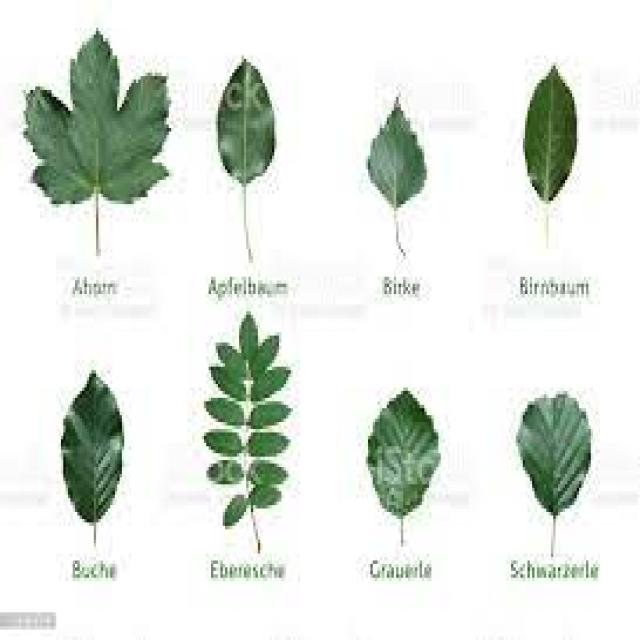leaves: (25, 31, 169, 254), (516, 393, 591, 556), (218, 59, 275, 263), (368, 389, 440, 545), (61, 373, 124, 543), (524, 66, 576, 202), (368, 98, 426, 209), (250, 336, 278, 377), (251, 370, 290, 399), (210, 368, 245, 399), (249, 404, 291, 429), (248, 461, 288, 484), (204, 432, 242, 455), (205, 402, 241, 425), (208, 463, 244, 484), (249, 438, 289, 456), (249, 485, 281, 506), (225, 496, 246, 527)
